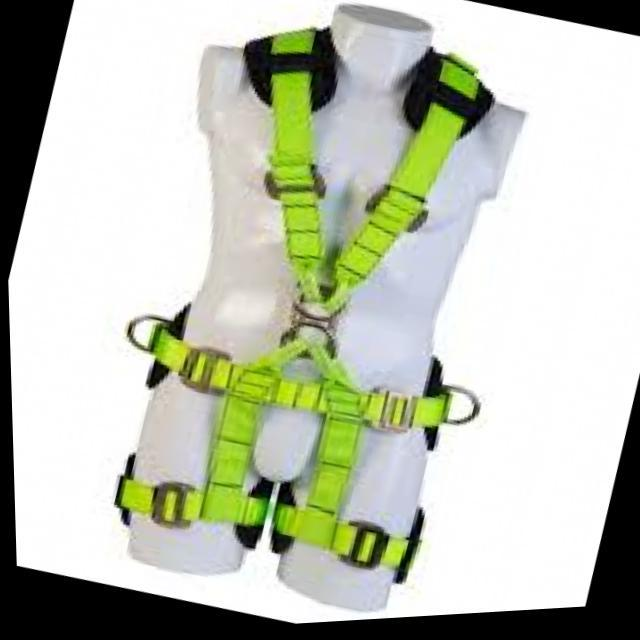belt: (72, 0, 588, 637)
